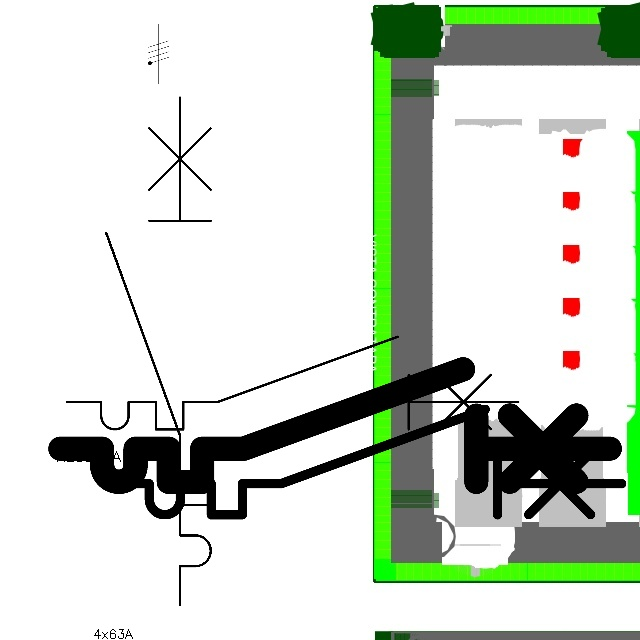interruptor_termomagnetico: (46, 355, 624, 496), (97, 396, 635, 528), (93, 84, 224, 618), (55, 325, 530, 441)
